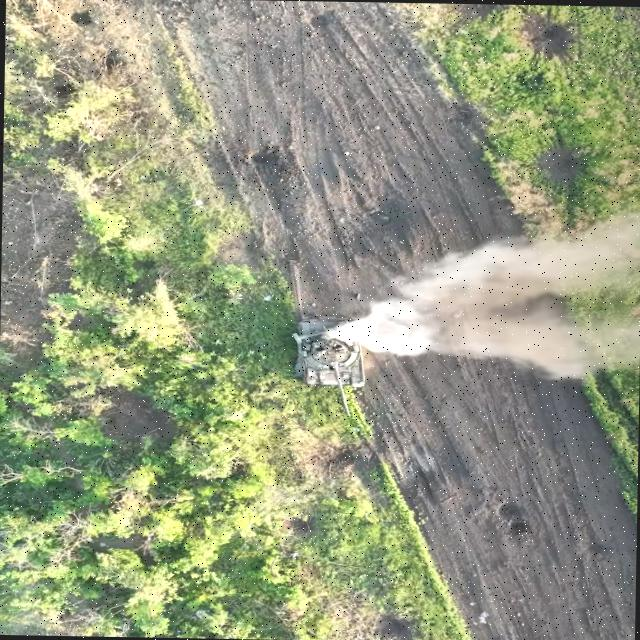MBT: (294, 314, 371, 419)
